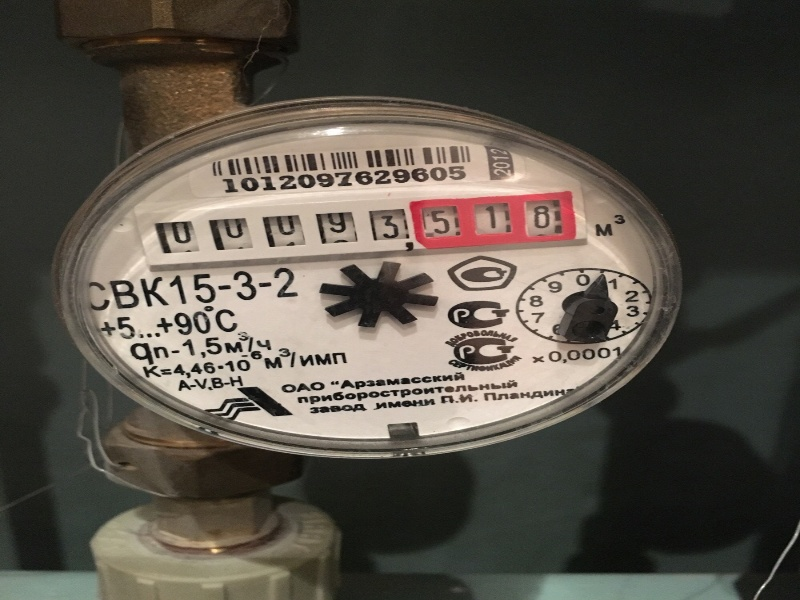meter: (136, 191, 569, 254)
